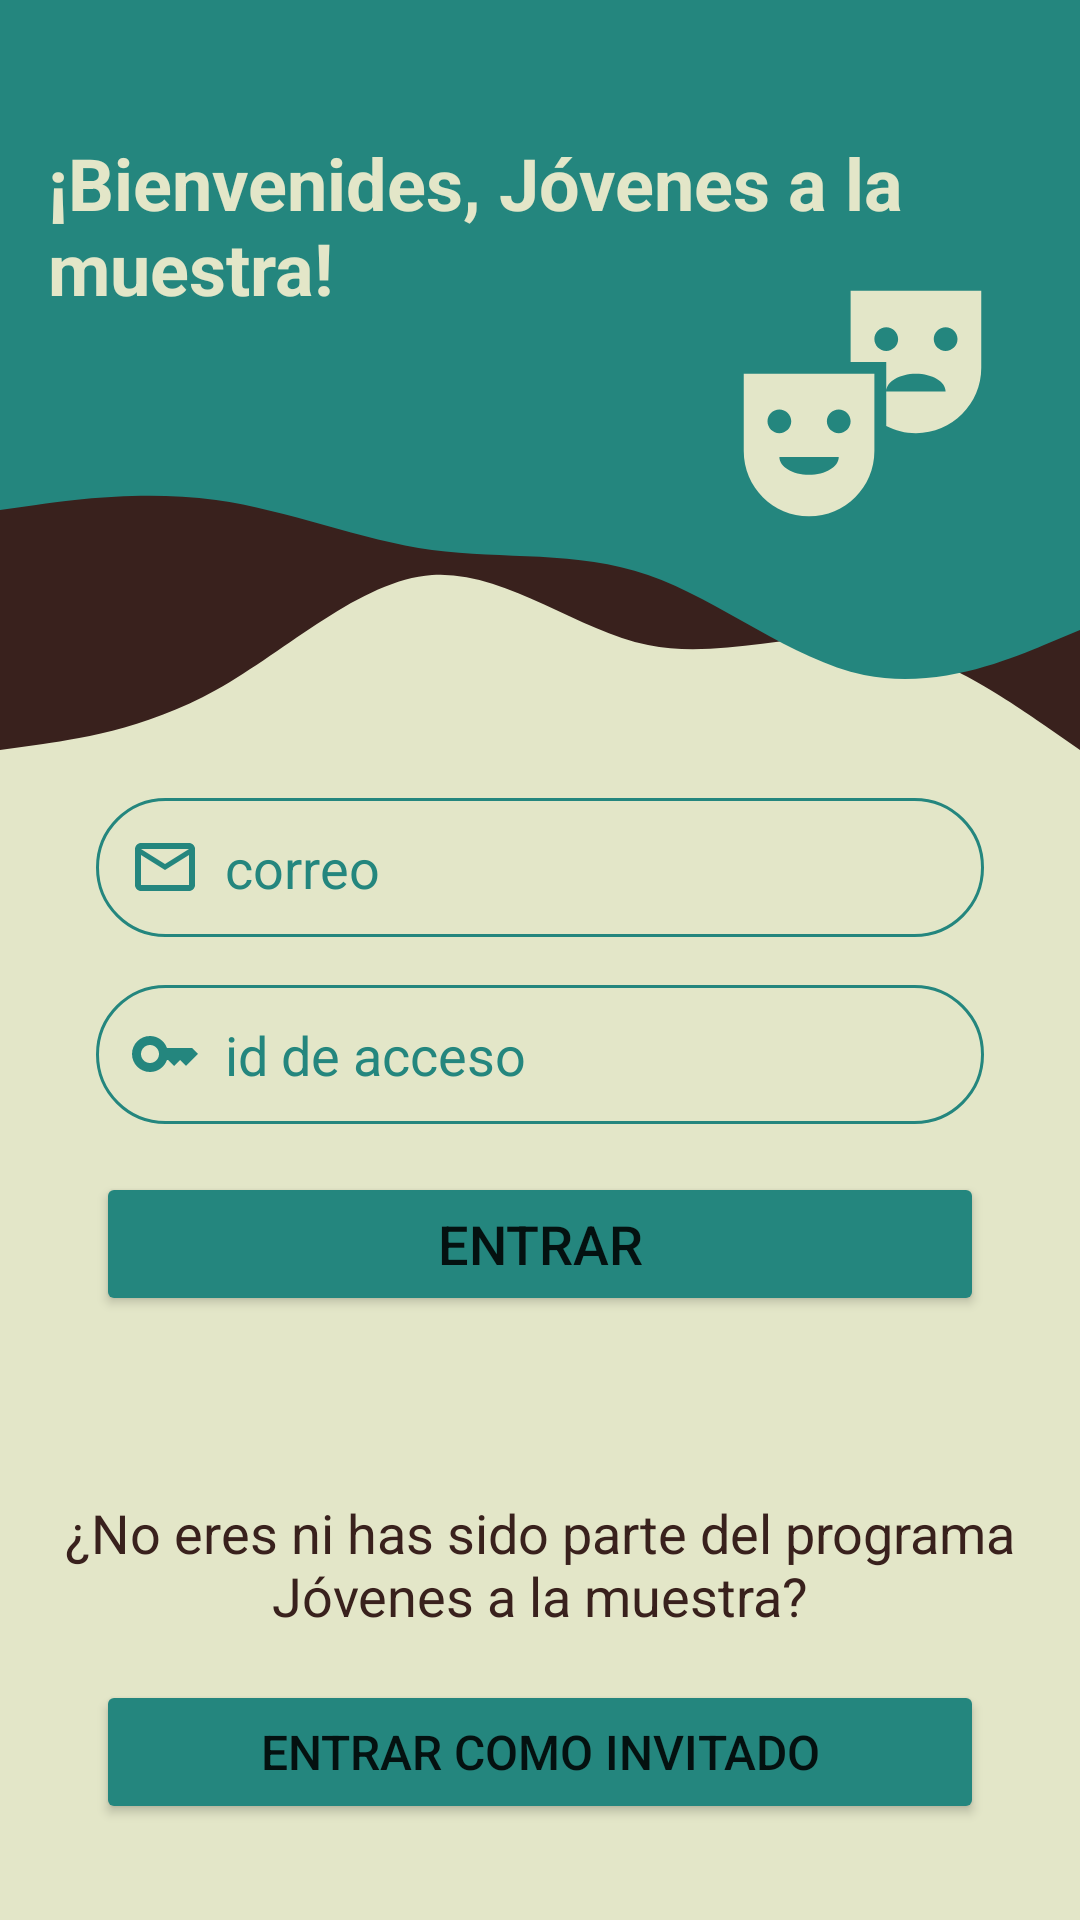

Icon click points for this 1080x1920 phone screenshot, format point (x, y):
theater: point (862, 403)
